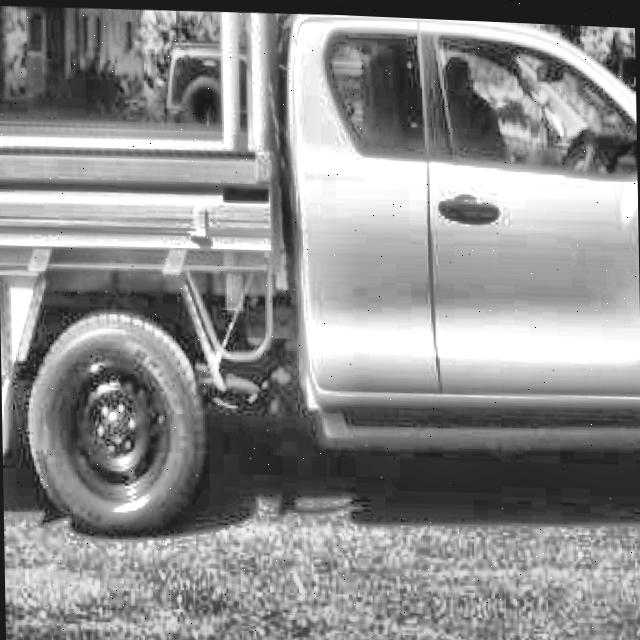light_vehicle: (0, 0, 640, 538)
